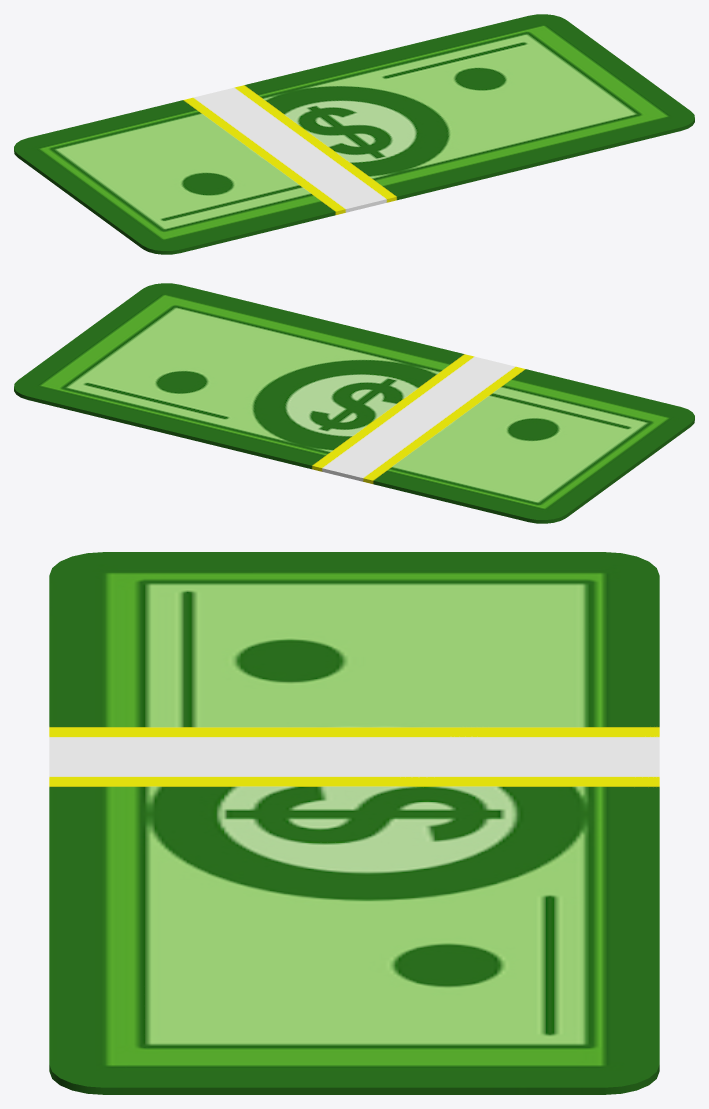
File: dollarOld.fbx
3 renders of one model, top to bottom at view 1: azimuth 30°, elevation 25°; view 2: azimuth 150°, elevation 25°; view 3: azimuth 270°, elevation 25°, orthographic. The views are drawn at different scales.
Parts seen in each view (by area): view 1: pCube1; view 2: pCube1; view 3: pCube1.
Boxes of the visible parts, bbox=[...] form: pCube1: bbox=[14, 14, 694, 254]; pCube1: bbox=[14, 283, 694, 523]; pCube1: bbox=[49, 552, 659, 1094].
Bounding box in the file's own units: 1.52 × 0.0095 × 0.7292.
